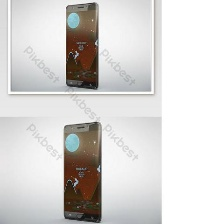phone: (60, 119, 105, 224), (62, 0, 102, 91)
